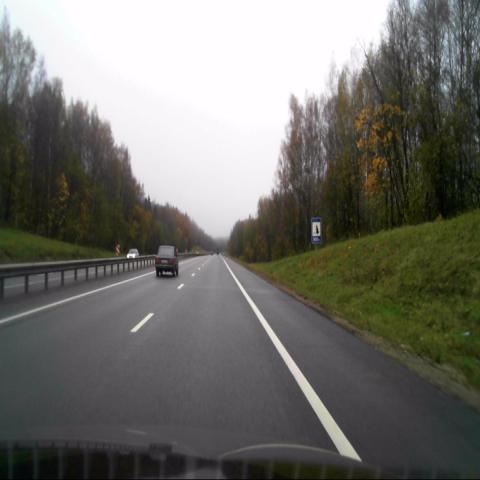7_11: (312, 218, 322, 243)
